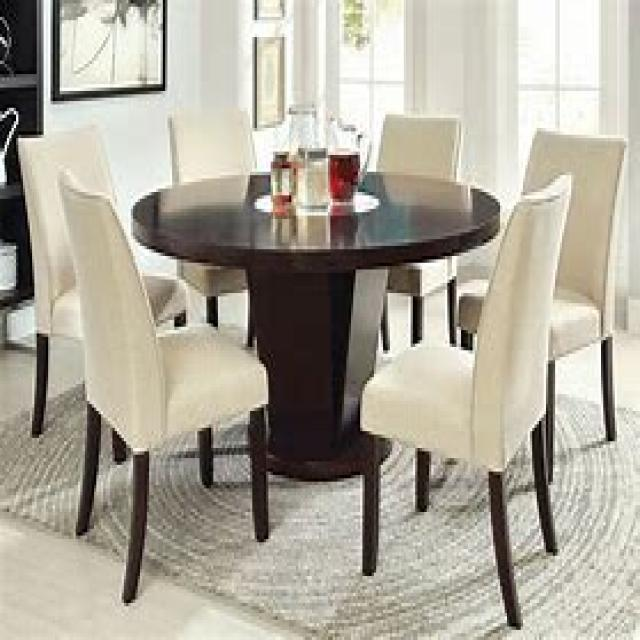chair: (358, 168, 571, 626), (55, 162, 268, 603), (454, 124, 626, 482), (16, 121, 186, 442), (165, 104, 259, 343), (374, 111, 461, 350)
table: (129, 165, 500, 482)
